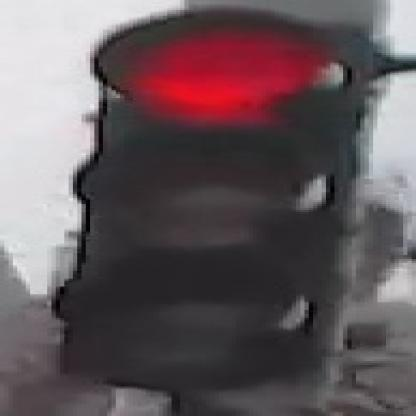Red Light: (10, 1, 391, 400)
